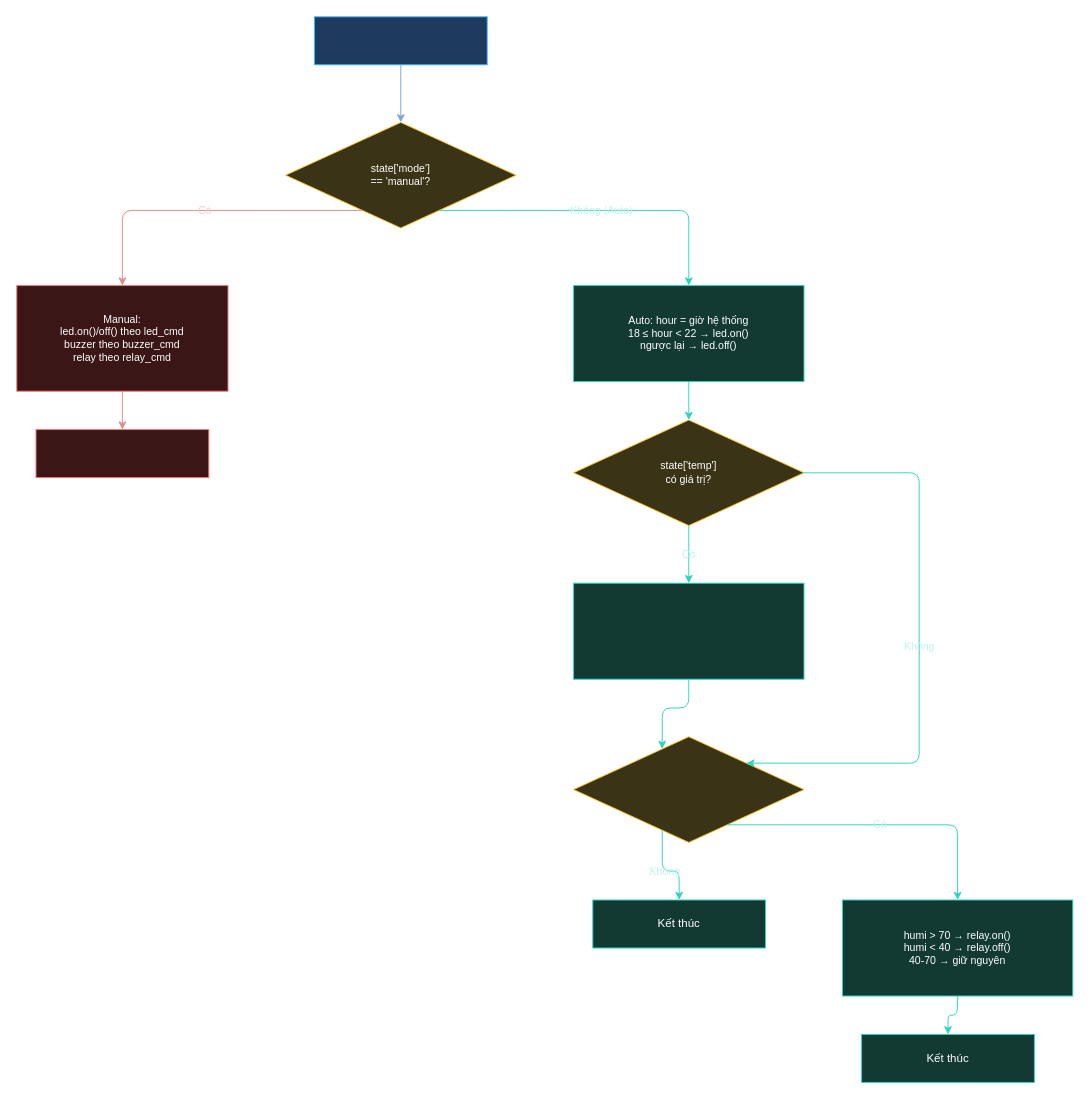
The diagram is 1090 pixels wide and 1099 high, and some of its shapes have lost their labels. Each missing label, with the box of its shape:
Bắt đầu: (313, 16, 487, 65)
Kết thúc (return): (35, 429, 209, 478)
state['humi'] có giá trị?: (573, 736, 804, 842)
temp > 40 → buzzer.on() temp < 30 → buzzer.off() 30-40 → giữ nguyên: (573, 582, 804, 679)
